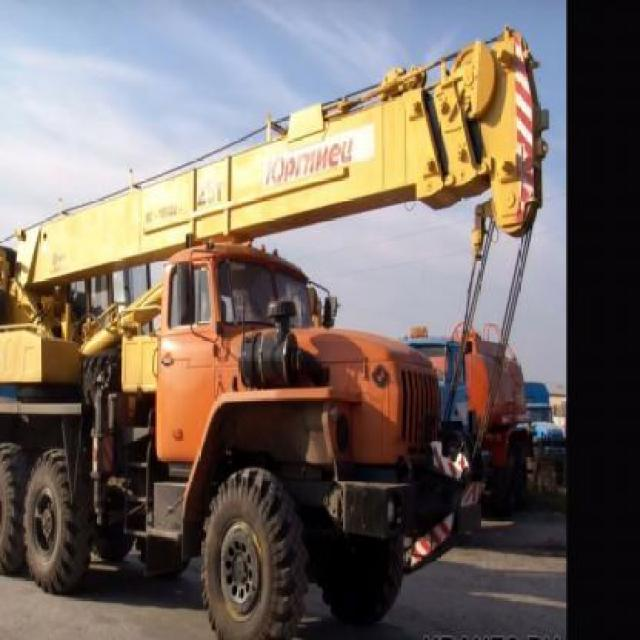Mobile Crane: (0, 29, 545, 636)
